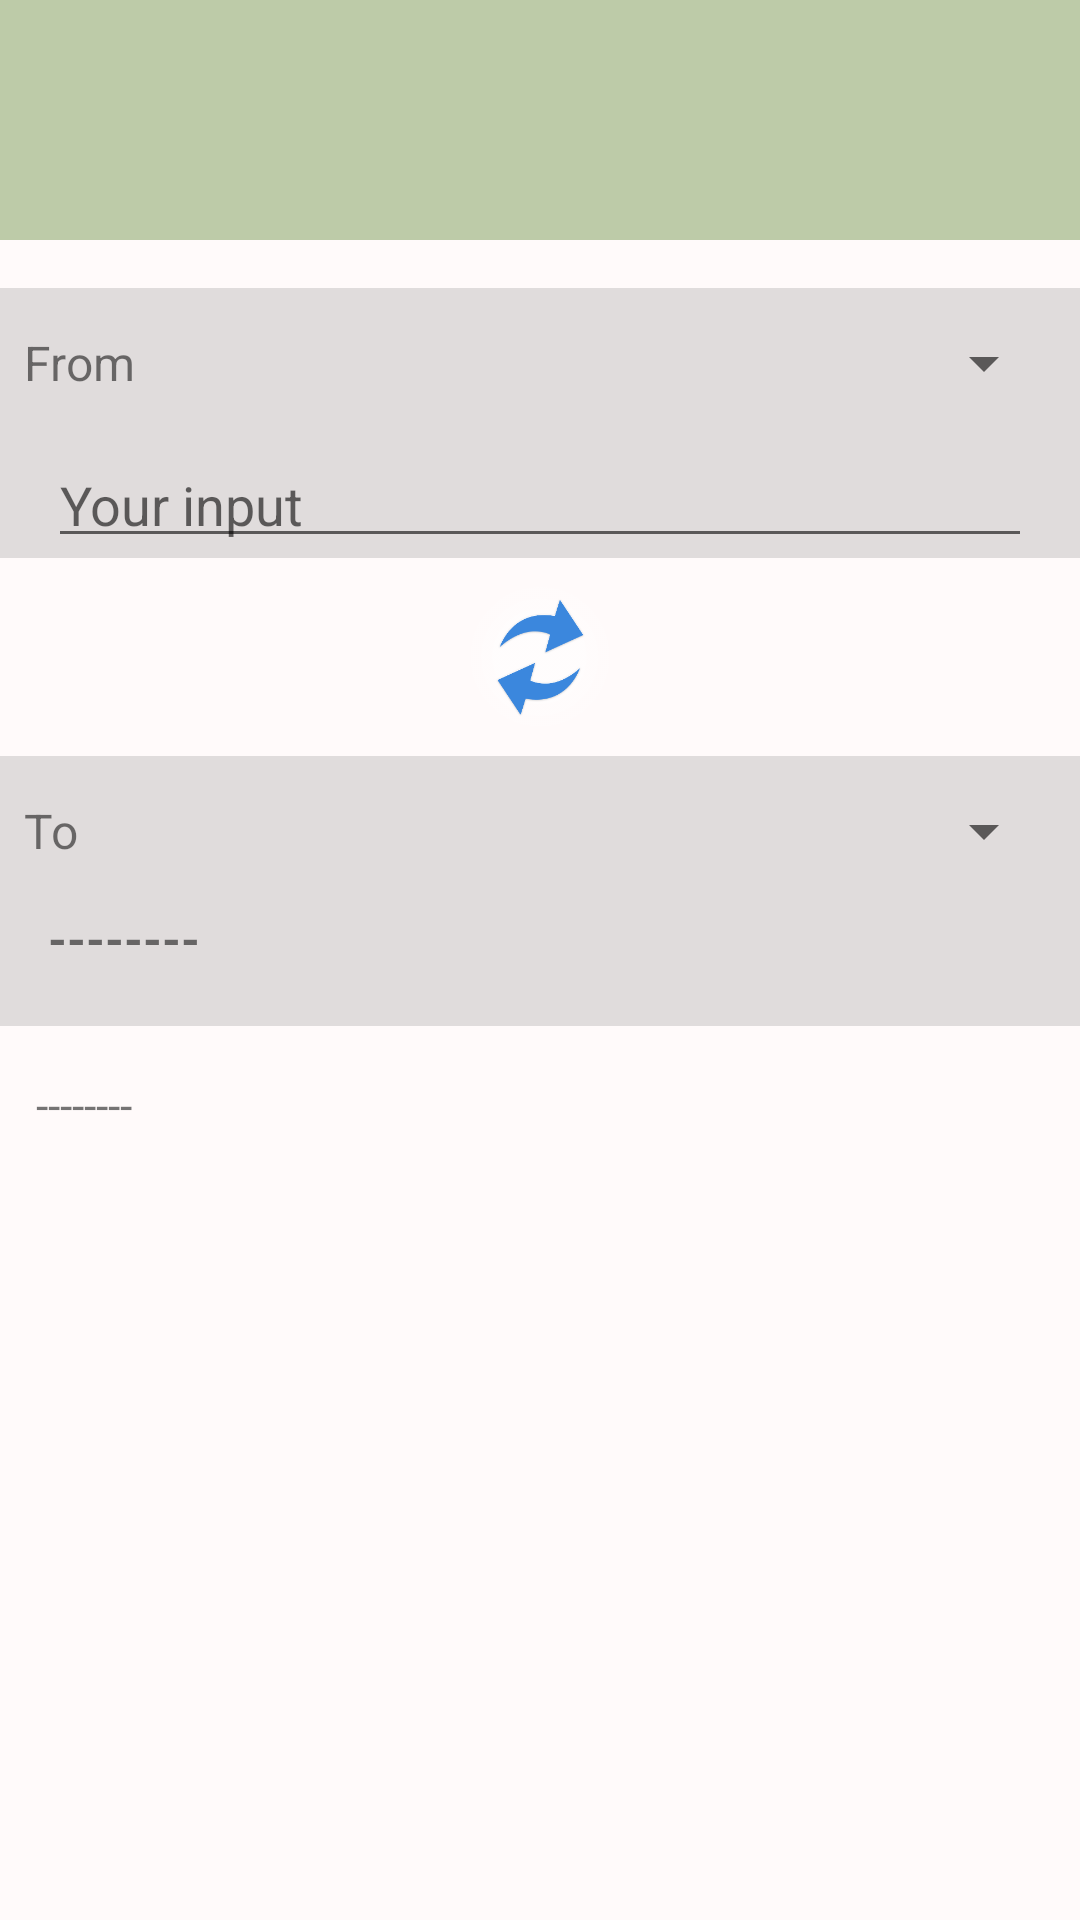

Screen size 1080px×1920px. Icon name, then its center in pixels as (x=x, y=y):
conv: (x=540, y=657)
